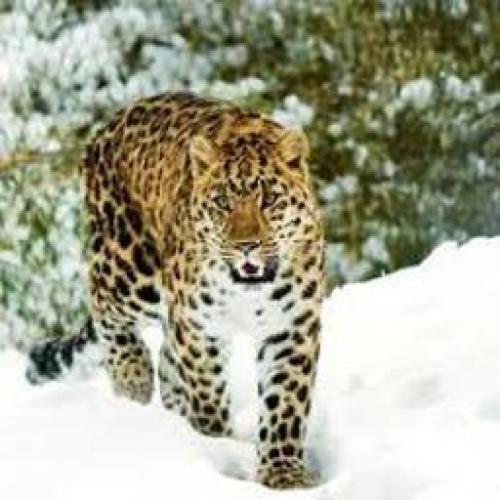amur_leopard-endangered: (80, 93, 330, 492)
